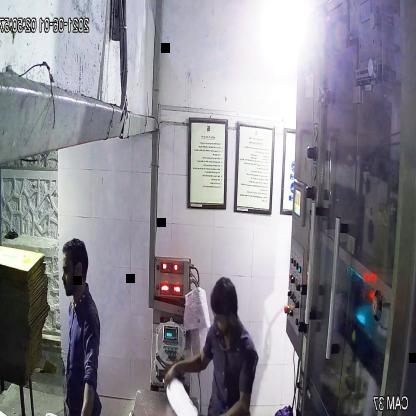no_goggles: (60, 258, 90, 282)
